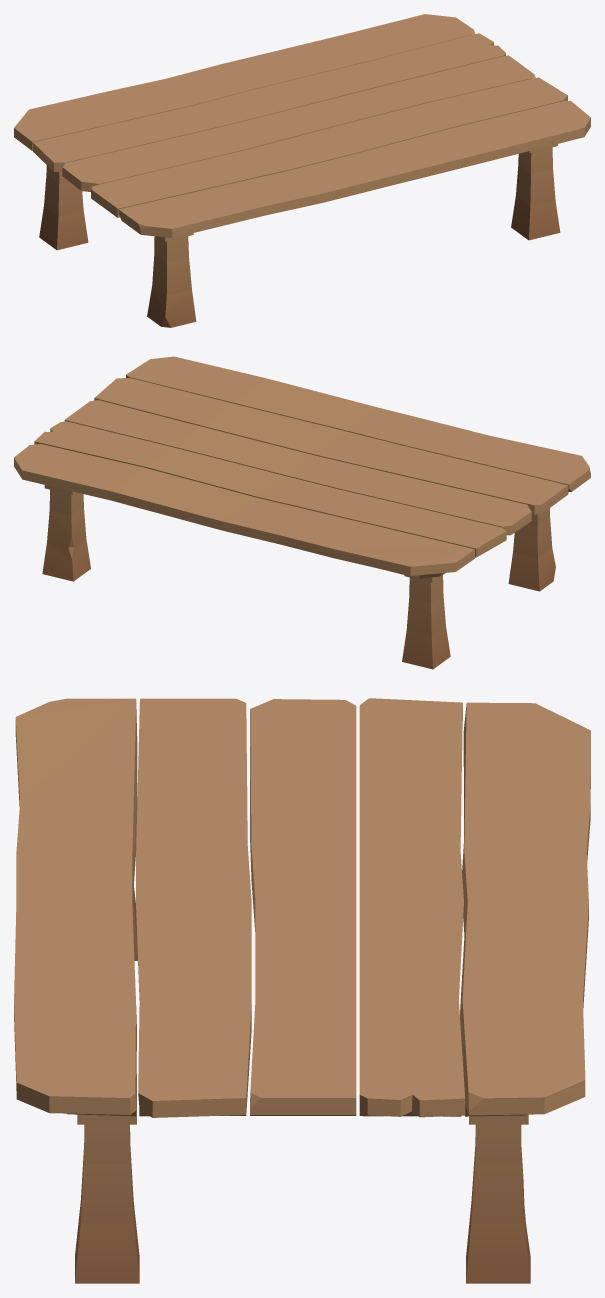
The model's file is SM_Table_02.fbx.
The picture shows the model from 3 angles, top to bottom: view 1: azimuth 30°, elevation 25°; view 2: azimuth 150°, elevation 25°; view 3: azimuth 270°, elevation 25°; orthographic projection. The views are drawn at different scales.
Parts seen in each view (by area): view 1: SM_Table_02; view 2: SM_Table_02; view 3: SM_Table_02.
Boxes of the visible parts, <box> form: SM_Table_02: <box>14,14,590,327</box>; SM_Table_02: <box>14,356,590,669</box>; SM_Table_02: <box>14,698,590,1283</box>.
Size of the model in its own units: 322 by 77.6 by 195.
